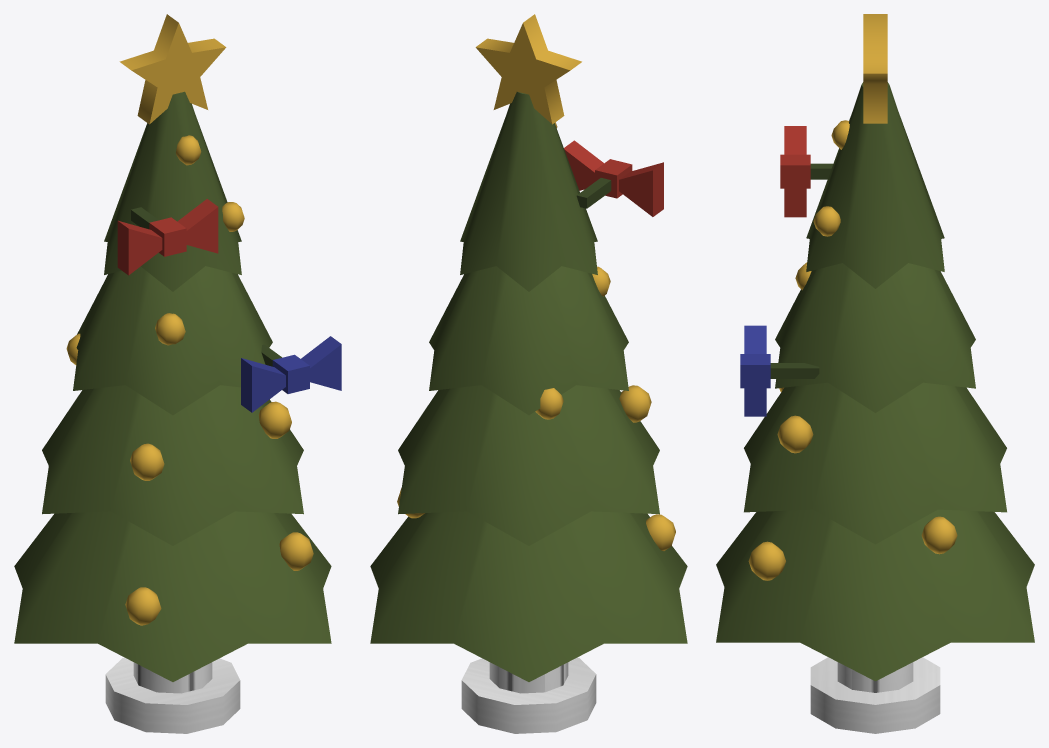
File: christmas_tree.obj
3 renders of one model, left to right at view 1: azimuth 30°, elevation 25°; view 2: azimuth 150°, elevation 25°; view 3: azimuth 270°, elevation 25°, orthographic.
Parts seen in each view (by area): view 1: source_component_002, source_component_003, source_component_004, source_component_005, source_component_001, source_component_006, source_component_017, source_component_021, source_component_018, source_component_022, source_component_000, source_component_007 (+7 smaller); view 2: source_component_002, source_component_003, source_component_004, source_component_005, source_component_001, source_component_006, source_component_017, source_component_000, source_component_018, source_component_009, source_component_019, source_component_007 (+2 smaller); view 3: source_component_002, source_component_003, source_component_004, source_component_005, source_component_001, source_component_006, source_component_000, source_component_018, source_component_022, source_component_008, source_component_010, source_component_014 (+6 smaller).
Part boxes in pixels (left/top/right/bottom): source_component_002: left=14, top=511, right=331, bottom=681; source_component_003: left=42, top=385, right=303, bottom=545; source_component_004: left=73, top=266, right=272, bottom=415; source_component_005: left=104, top=91, right=241, bottom=291; source_component_001: left=105, top=657, right=240, bottom=733; source_component_006: left=119, top=14, right=226, bottom=124; source_component_017: left=117, top=220, right=162, bottom=275; source_component_021: left=241, top=358, right=285, bottom=412; source_component_018: left=177, top=199, right=218, bottom=253; source_component_022: left=301, top=336, right=341, bottom=390; source_component_000: left=133, top=662, right=212, bottom=693; source_component_007: left=125, top=587, right=161, bottom=625; source_component_002: left=370, top=511, right=687, bottom=681; source_component_003: left=398, top=385, right=659, bottom=545; source_component_004: left=429, top=266, right=628, bottom=415; source_component_005: left=460, top=91, right=597, bottom=291; source_component_001: left=461, top=657, right=596, bottom=733; source_component_006: left=475, top=14, right=581, bottom=124; source_component_017: left=619, top=162, right=663, bottom=216; source_component_000: left=489, top=662, right=568, bottom=693; source_component_018: left=564, top=140, right=603, bottom=190; source_component_009: left=619, top=385, right=651, bottom=422; source_component_019: left=595, top=159, right=632, bottom=198; source_component_007: left=646, top=514, right=675, bottom=550; source_component_002: left=716, top=509, right=1034, bottom=681; source_component_003: left=744, top=382, right=1006, bottom=544; source_component_004: left=775, top=263, right=975, bottom=412; source_component_005: left=806, top=82, right=944, bottom=288; source_component_001: left=810, top=657, right=940, bottom=733; source_component_006: left=863, top=14, right=887, bottom=123; source_component_000: left=837, top=662, right=913, bottom=692; source_component_018: left=784, top=170, right=806, bottom=217; source_component_022: left=744, top=369, right=766, bottom=416; source_component_008: left=748, top=541, right=785, bottom=580; source_component_010: left=777, top=415, right=813, bottom=453; source_component_014: left=921, top=516, right=957, bottom=554.
Size of the model in its own units: 0.92 by 1.9 by 0.7967.
